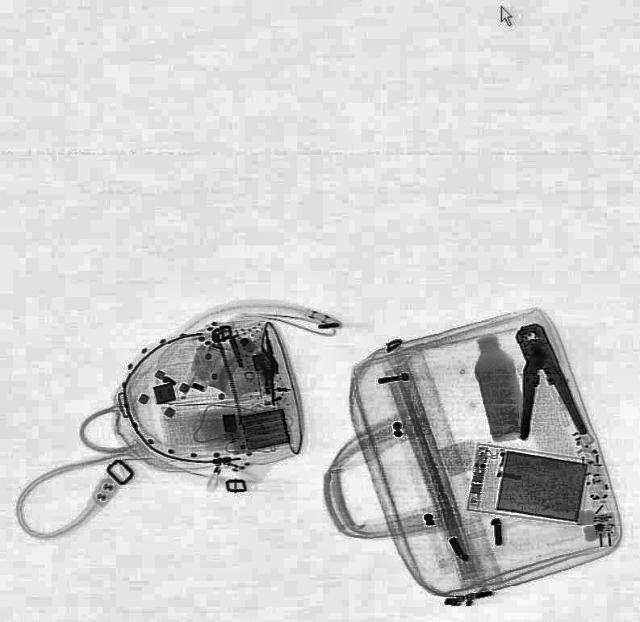Pliers: (492, 318, 584, 444)
